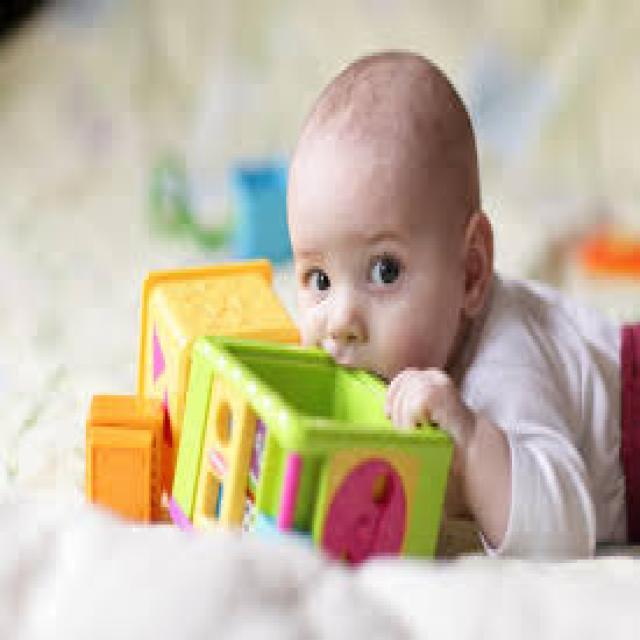hard-toy: (88, 261, 450, 561)
